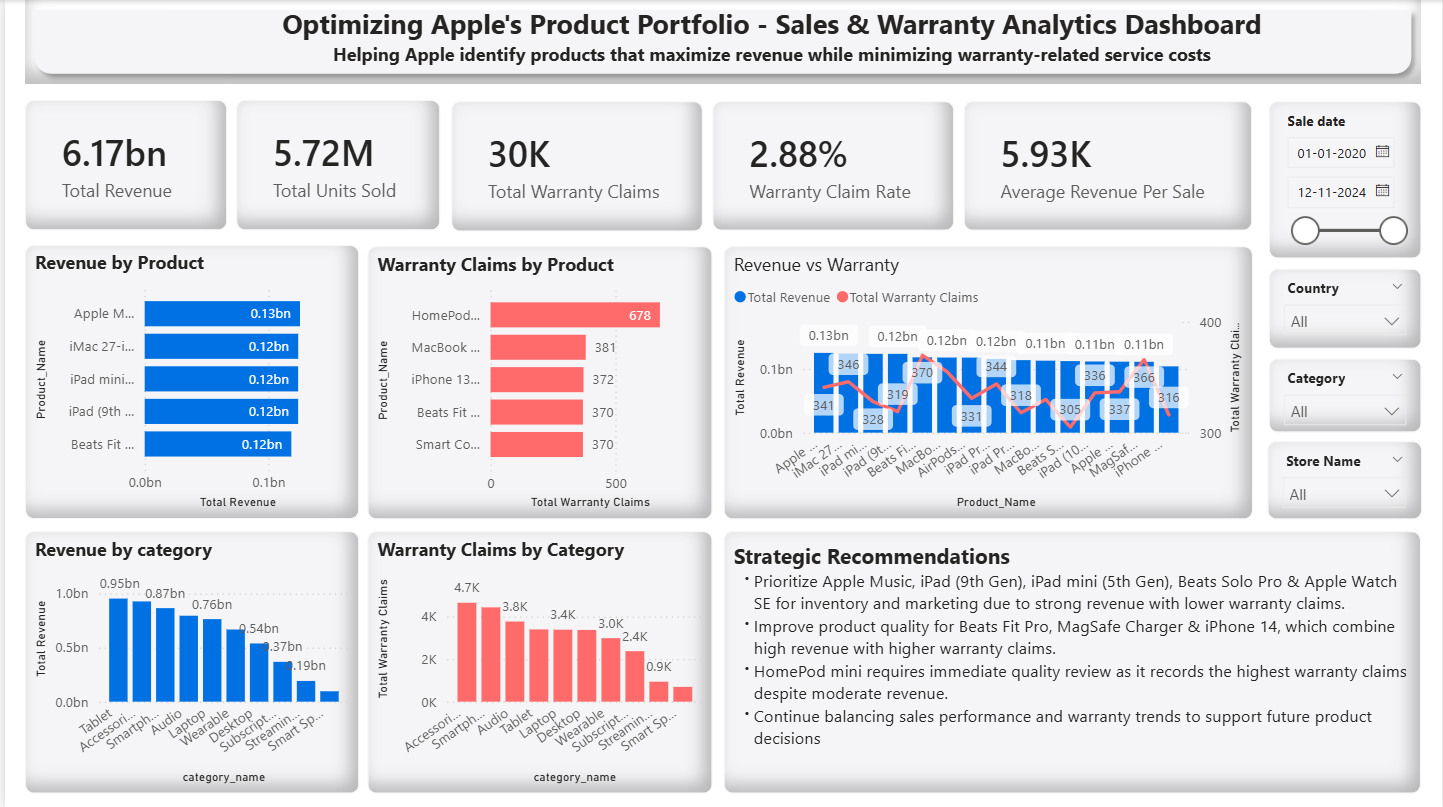

This screenshot's page, from the dashboard's own definition file:
{"tool":"powerbi","page":{"name":"Apple-Product-Portfolio-Optimization ","canvas":[1280,720],"ordinal":0},"visuals":[{"type":"shape","box":[17.8,0,1243.4,74.6],"z":0},{"type":"textbox","box":[146.9,0,1072,74.6],"z":1000},{"type":"cardVisual","fields":{"Data":["category.Total Revenue"]},"box":[17.8,89.1,180.3,115.8],"z":2000},{"type":"cardVisual","fields":{"Data":["category.Total Units Sold"]},"box":[205.9,89.1,181.4,115.8],"z":3000},{"type":"cardVisual","fields":{"Data":["category.Total Warranty Claims"]},"box":[397.4,90.2,223.7,115.8],"z":4000},{"type":"cardVisual","fields":{"Data":["category.Warranty Claim Rate"]},"box":[630.2,90.7,215.1,115.1],"z":5000},{"type":"cardVisual","fields":{"Data":["category.Average Revenue Per Sale"]},"box":[853.5,90.7,257,115.1],"z":6000},{"type":"clusteredBarChart","title":"Revenue by Product","fields":{"Category":["products.Product_Name"],"Y":["category.Total Revenue"]},"box":[17.8,218.2,297.2,243.8],"z":7000},{"type":"clusteredBarChart","title":"Warranty Claims by Product","fields":{"Category":["products.Product_Name"],"Y":["category.Total Warranty Claims"]},"box":[323.3,219.8,307,243],"z":8000},{"type":"clusteredColumnChart","title":"Revenue by category","fields":{"Category":["category.category_name"],"Y":["category.Total Revenue"]},"box":[17.8,473.1,297.2,233.8],"z":9000},{"type":"clusteredColumnChart","title":"Warranty Claims by Category","fields":{"Category":["category.category_name"],"Y":["category.Total Warranty Claims"]},"box":[322.8,473.1,307.2,233.8],"z":10000},{"type":"slicer","fields":{"Values":["category.category_name"]},"box":[1125.4,319.5,135.8,65.7],"z":11000},{"type":"slicer","fields":{"Values":["stores.Country"]},"box":[1125.4,239.3,135.8,71.2],"z":12000},{"type":"slicer","fields":{"Values":["stores.Store_Name"]},"box":[1124.4,393,137.2,69.8],"z":13000},{"type":"slicer","fields":{"Values":["sales.sale_date"]},"box":[1125.4,90.2,135.8,140.3],"z":14000},{"type":"textbox","box":[640.1,473.1,621.2,233.8],"z":15000},{"type":"lineClusteredColumnComboChart","title":"Revenue vs Warranty","fields":{"Category":["products.Product_Name"],"Y":["category.Total Revenue"],"Y2":["category.Total Warranty Claims"]},"box":[639.5,219.8,470.9,243],"z":16000}]}

Visuals, with their boxes in screenshot pixels (x1, y1, x2, y2), scaled from the page's 1280x720 canvas onto the 1443x807 screenshot:
shape: select_region(20, 0, 1422, 84)
textbox: select_region(166, 0, 1374, 84)
cardVisual - category.Total Revenue: select_region(20, 100, 223, 230)
cardVisual - category.Total Units Sold: select_region(232, 100, 437, 230)
cardVisual - category.Total Warranty Claims: select_region(448, 101, 700, 231)
cardVisual - category.Warranty Claim Rate: select_region(710, 102, 953, 231)
cardVisual - category.Average Revenue Per Sale: select_region(962, 102, 1252, 231)
"Revenue by Product" clusteredBarChart: select_region(20, 245, 355, 518)
"Warranty Claims by Product" clusteredBarChart: select_region(364, 246, 711, 519)
"Revenue by category" clusteredColumnChart: select_region(20, 530, 355, 792)
"Warranty Claims by Category" clusteredColumnChart: select_region(364, 530, 710, 792)
slicer - category.category_name: select_region(1269, 358, 1422, 432)
slicer - stores.Country: select_region(1269, 268, 1422, 348)
slicer - stores.Store_Name: select_region(1268, 440, 1422, 519)
slicer - sales.sale_date: select_region(1269, 101, 1422, 258)
textbox: select_region(722, 530, 1422, 792)
"Revenue vs Warranty" lineClusteredColumnComboChart: select_region(721, 246, 1252, 519)
